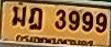letters: (28, 6, 44, 31), (11, 4, 27, 27), (94, 12, 109, 34), (54, 9, 67, 31), (81, 11, 94, 33), (68, 10, 80, 32)
province: (15, 34, 94, 47)
